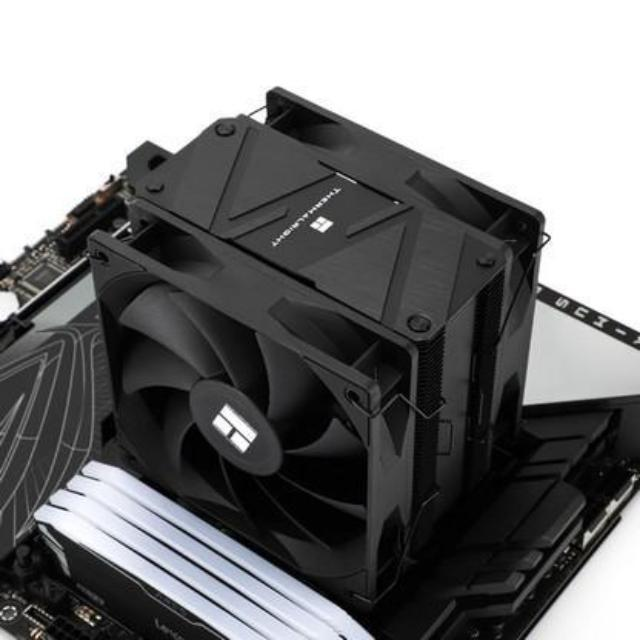CPU_Fan: (91, 91, 548, 600)
